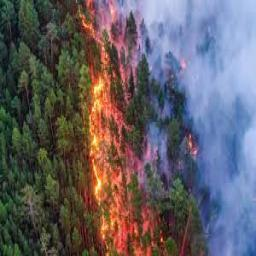Heavy smoke: (87, 0, 256, 256)
Medium fire: (80, 1, 164, 256)
